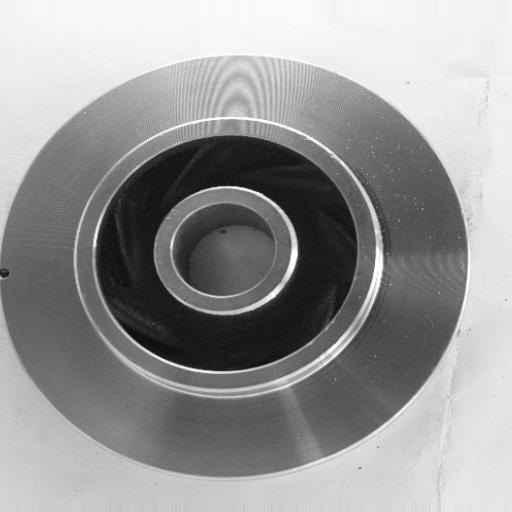pit: (0, 258, 18, 288)
unpolished_casting: (2, 54, 471, 481)
